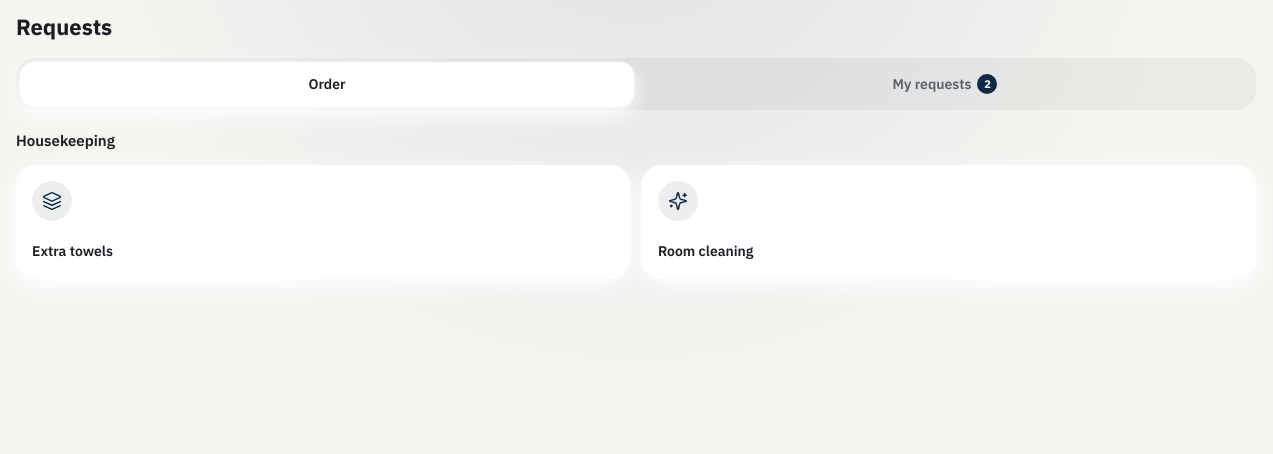
Test: My requests (15.3) › AC1 — active rows with status chips; finished ones collapse into history
The width and height of the screenshot is (1273, 454).
Click the tab "My requests 2" at (945, 84), box [638, 62, 1252, 106]
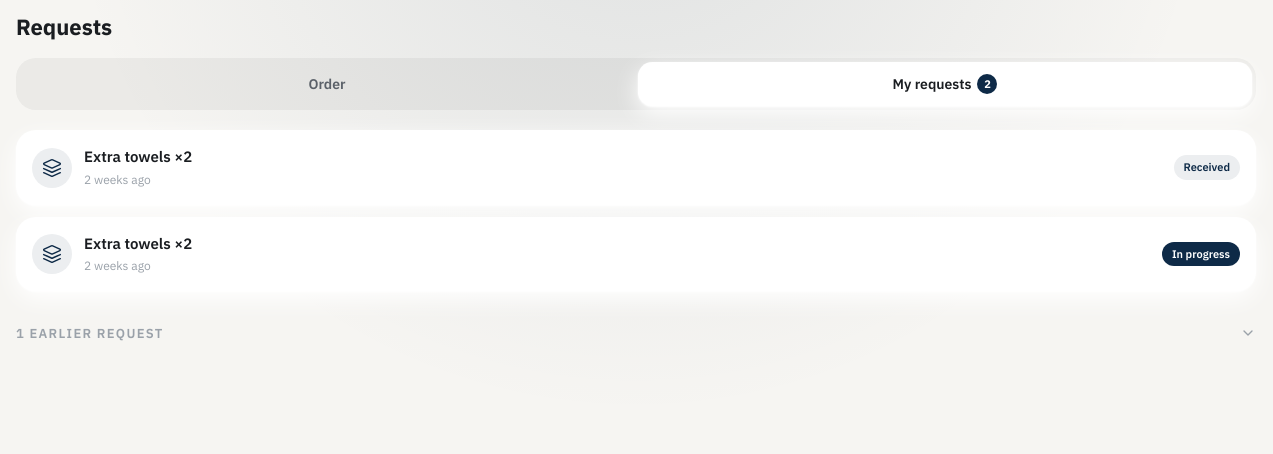
Expected: the button with test id "request-row-req-1" is shown, [16, 130, 1256, 205]
Expected: the text "Received" is shown, [1174, 155, 1240, 180]
Expected: the text "In progress" is shown, [1162, 242, 1240, 266]
Click the button "1 earlier request" at (90, 333), box [16, 311, 1256, 355]
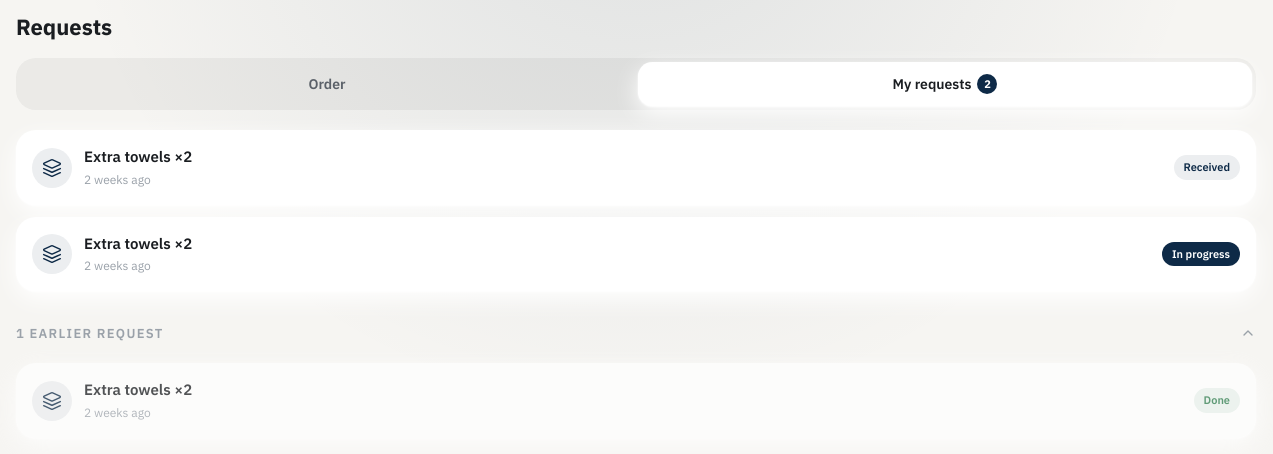
Expected: the button with test id "request-row-req-3" is shown, [16, 363, 1256, 438]
